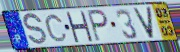3: (116, 8, 139, 41)
C: (44, 13, 69, 43)
H: (64, 11, 95, 43)
P: (86, 9, 110, 43)
S: (23, 12, 48, 48)
V: (132, 6, 156, 40)
